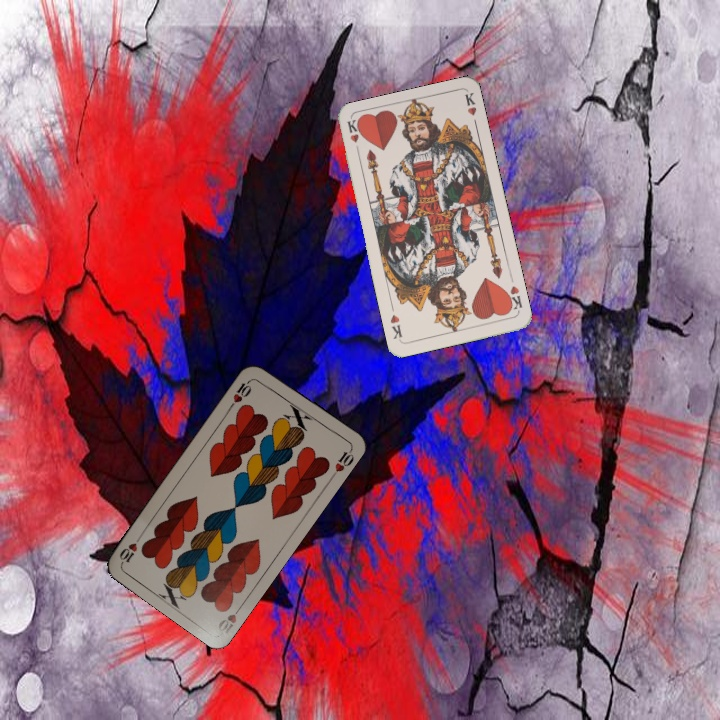H10: (214, 600, 247, 637), (226, 375, 255, 410)
HK: (343, 116, 362, 157), (502, 282, 524, 314)
